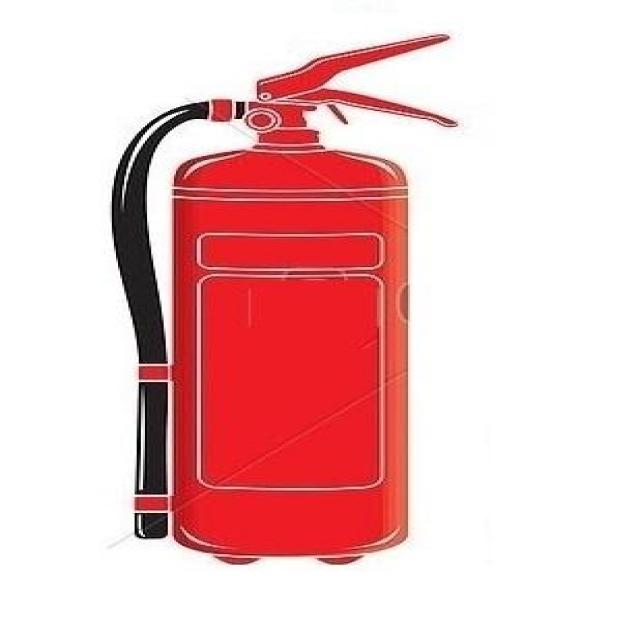fire_extinguisher: (101, 28, 462, 568)
